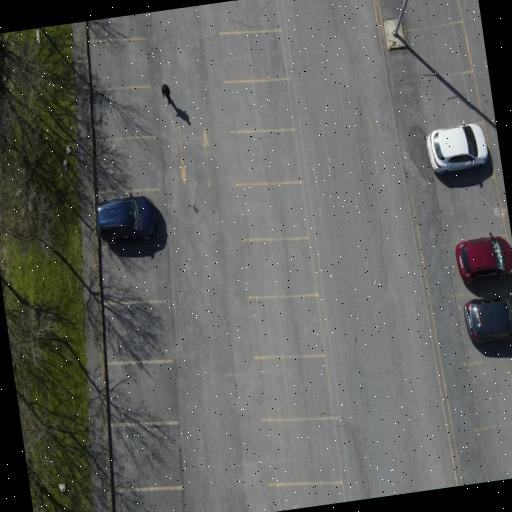car: (427, 121, 488, 174), (97, 194, 156, 245), (456, 234, 511, 282), (464, 296, 511, 342)
person: (162, 84, 172, 104)
